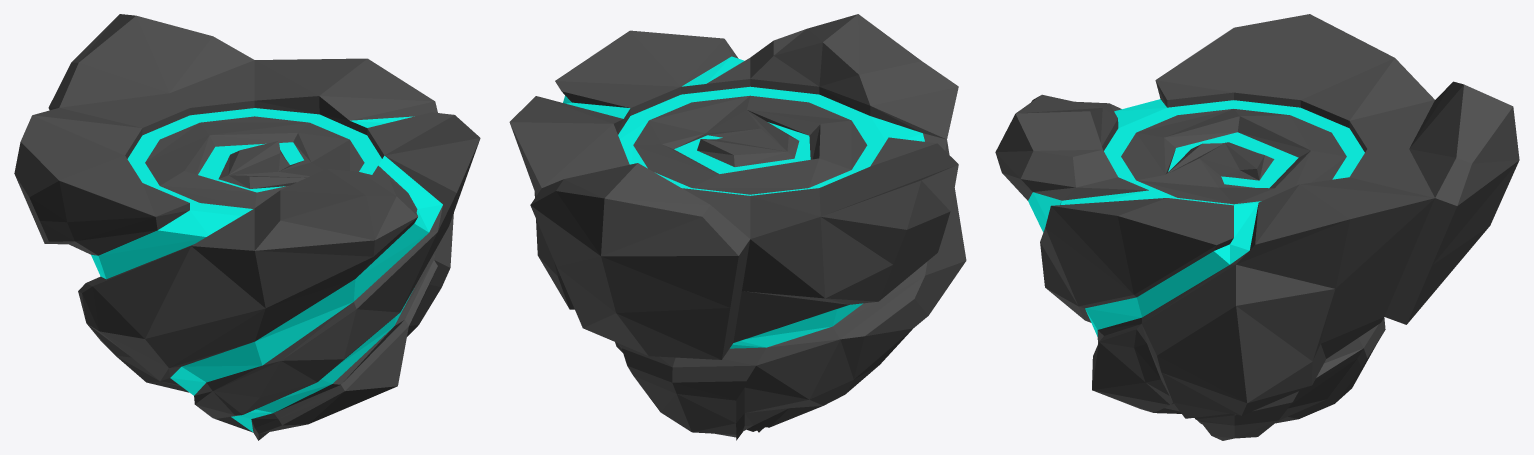
The model's file is Platform_Fantasy.glb.
3 views of the same model, side by side, from view 1: azimuth 30°, elevation 25°; view 2: azimuth 150°, elevation 25°; view 3: azimuth 270°, elevation 25° (orthographic). The views are drawn at different scales.
Parts seen in each view (by area): view 1: Fantasy_Platform_01; view 2: Fantasy_Platform_01; view 3: Fantasy_Platform_01.
Part boxes in pixels (left/top/right/bottom): Fantasy_Platform_01: left=14, top=14, right=480, bottom=440; Fantasy_Platform_01: left=509, top=14, right=966, bottom=440; Fantasy_Platform_01: left=995, top=14, right=1519, bottom=440.
Size of what is drawn, in the model's own units: 1.08 by 0.853 by 1.16.
1 material, 1 textured.
